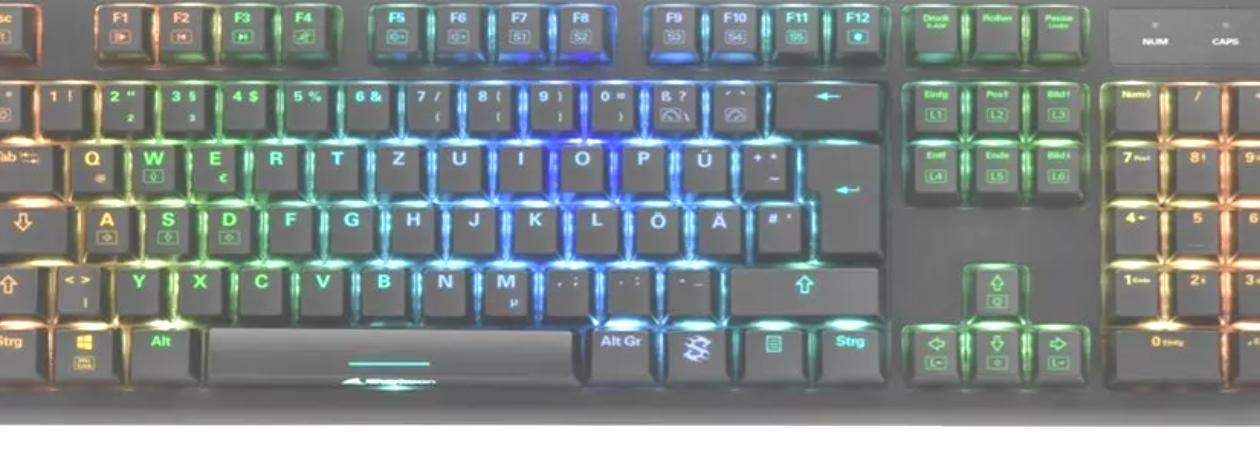0: (585, 77, 633, 129)
1: (35, 77, 82, 130)
2: (96, 77, 144, 132)
3: (157, 77, 206, 132)
4: (219, 77, 268, 130)
5: (281, 77, 329, 131)
6: (341, 77, 391, 131)
7: (402, 77, 450, 130)
8: (461, 77, 511, 131)
9: (523, 77, 572, 128)
a: (81, 196, 127, 250)
accent: (707, 76, 755, 131)
ae: (692, 199, 739, 253)
alt-left: (124, 320, 190, 378)
altgr-right: (585, 323, 649, 378)
b: (356, 259, 404, 313)
c: (234, 259, 282, 312)
caret: (1, 76, 25, 129)
comma: (541, 261, 587, 314)
d: (202, 199, 249, 252)
del: (771, 76, 877, 128)
e: (188, 137, 235, 190)
enter: (799, 136, 879, 253)
f: (264, 199, 310, 252)
g: (325, 199, 372, 251)
h: (386, 199, 433, 251)
hash: (751, 198, 798, 252)
i: (494, 138, 541, 188)
j: (447, 200, 494, 252)
k: (508, 200, 556, 251)
keyboard: (1, 1, 1260, 431)
l: (569, 199, 616, 252)
less: (52, 259, 99, 313)
m: (479, 261, 527, 315)
minus: (661, 260, 708, 312)
n: (418, 261, 465, 315)
o: (555, 139, 602, 189)
oe: (630, 200, 678, 252)
p: (617, 137, 664, 190)
plus: (737, 136, 785, 191)
point: (602, 261, 648, 312)
q: (65, 137, 113, 191)
r: (250, 137, 297, 189)
s: (140, 198, 187, 251)
shift-left: (1, 261, 36, 312)
shift-lock: (1, 199, 66, 252)
shift-right: (725, 262, 877, 312)
space: (198, 321, 574, 380)
ss: (646, 77, 696, 130)
strg-left: (1, 319, 39, 378)
strg-right: (814, 320, 881, 380)
t: (310, 137, 358, 190)
tab: (1, 136, 51, 189)
u: (433, 138, 480, 190)
ue: (677, 138, 726, 191)
v: (296, 260, 342, 313)
w: (126, 137, 174, 189)
x: (173, 260, 220, 312)
y: (113, 260, 159, 313)
z: (371, 139, 418, 190)
